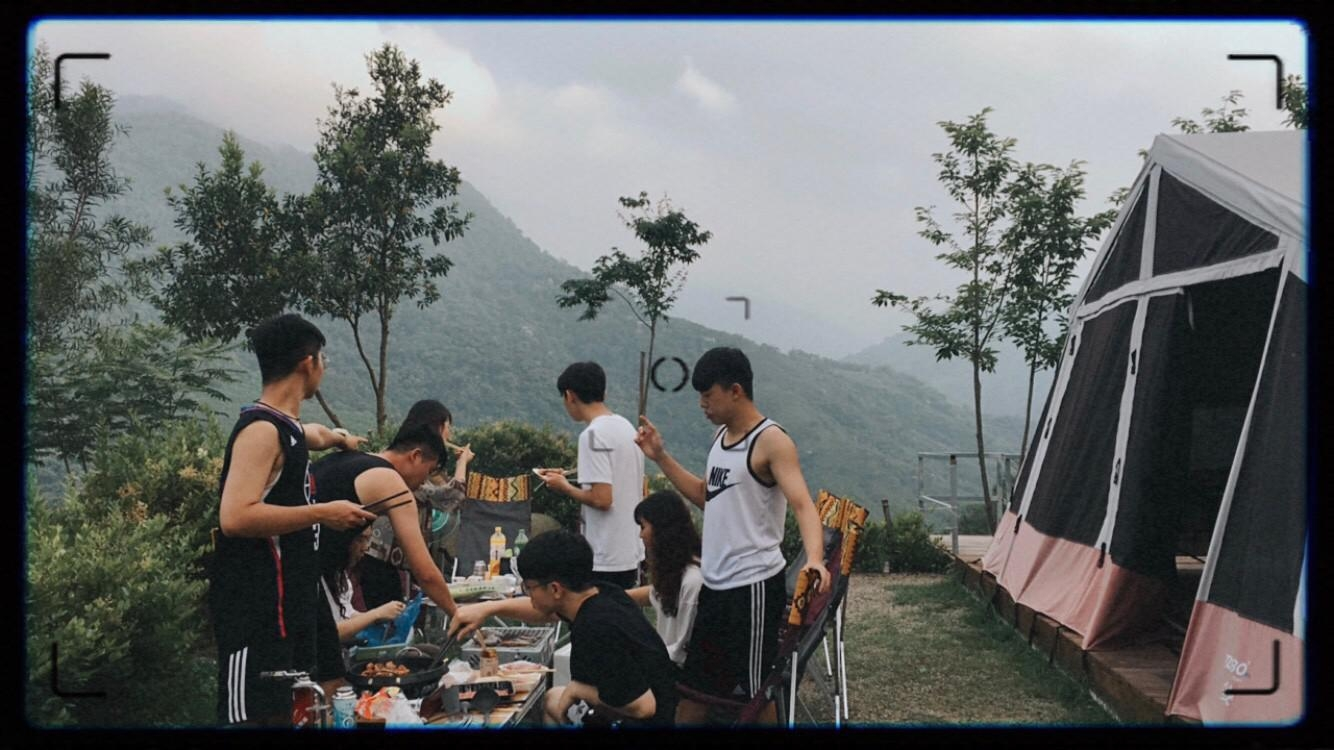people: (671, 362, 781, 733), (238, 313, 322, 745), (517, 535, 673, 750), (311, 432, 438, 615), (554, 366, 651, 600), (632, 492, 724, 639), (387, 409, 453, 498)
